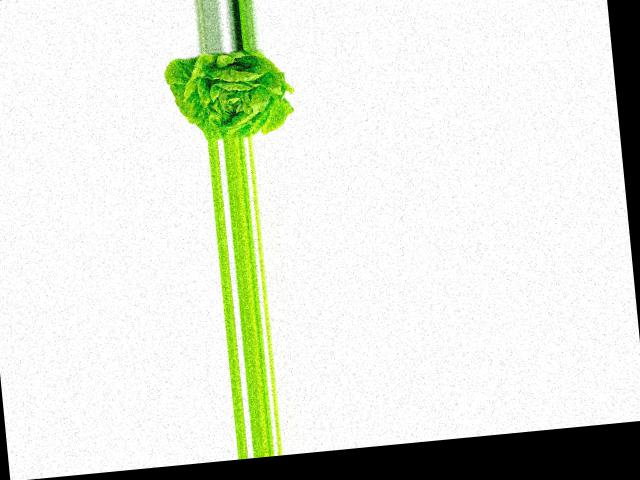lettuce: (160, 45, 292, 144)
